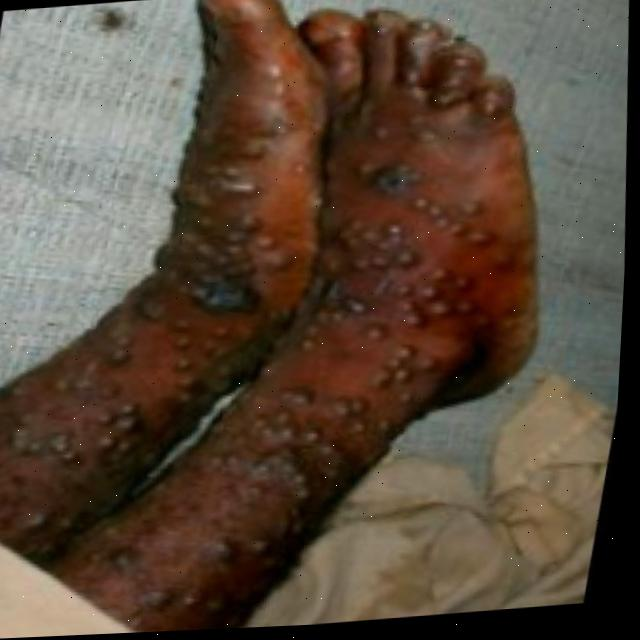Eczema: (0, 106, 522, 624)
